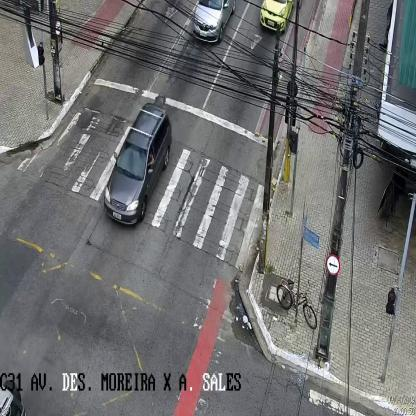bicycle: (276, 278, 317, 330)
car: (104, 101, 171, 226), (193, 0, 239, 42), (258, 1, 297, 35)
